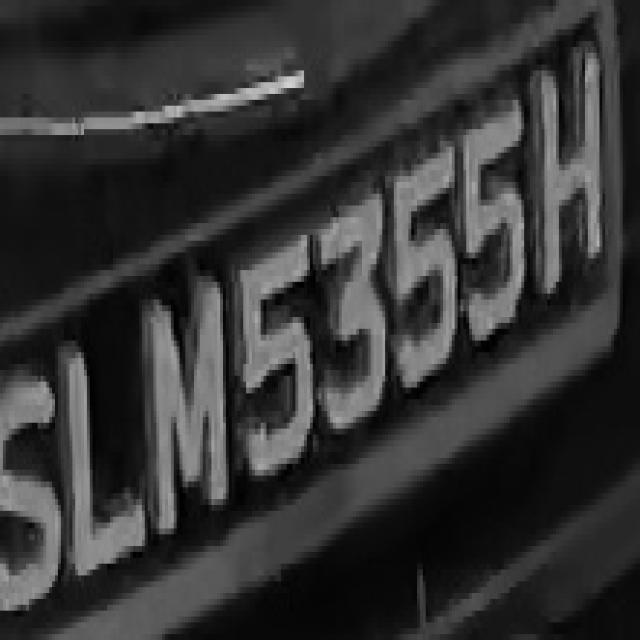3: (304, 188, 400, 446)
5: (386, 153, 464, 411), (240, 223, 316, 482), (460, 94, 533, 346)
H: (533, 41, 611, 300)
L: (58, 323, 153, 587)
M: (148, 270, 228, 540)
S: (3, 347, 64, 622)
